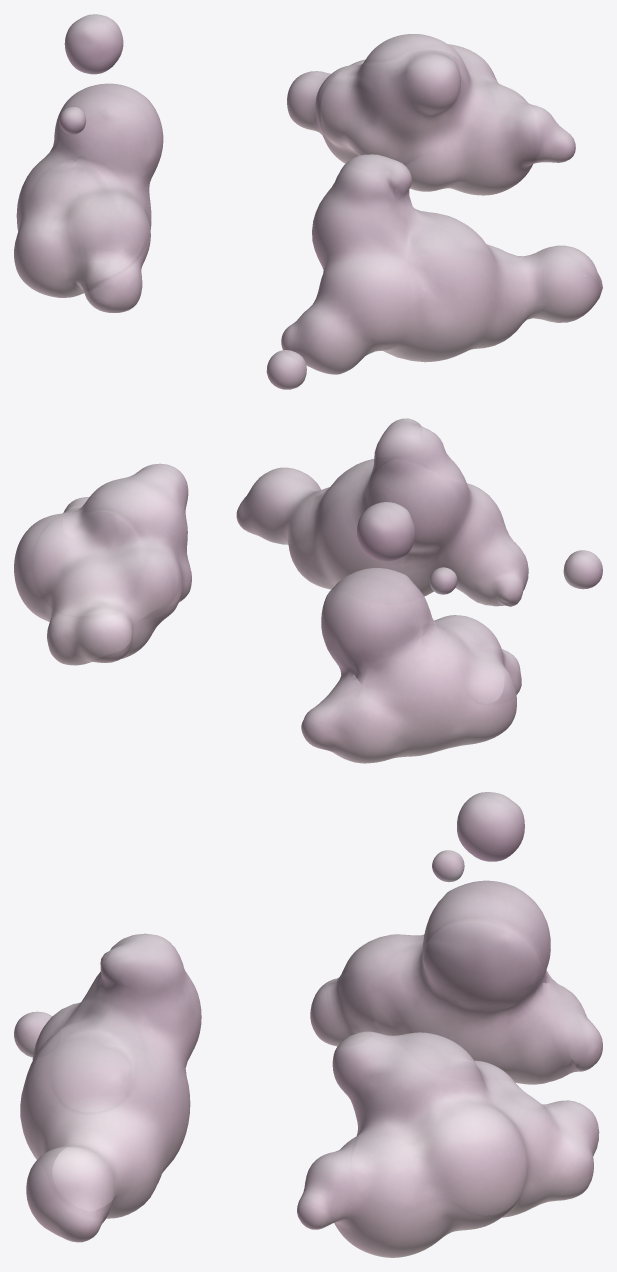
3 views of the same model, one above another, from view 1: azimuth 30°, elevation 25°; view 2: azimuth 150°, elevation 25°; view 3: azimuth 270°, elevation 25° (orthographic). The views are drawn at different scales.
Parts seen in each view (by area): view 1: nube1_0, nube3_2, nube2_1; view 2: nube2_1, nube1_0, nube3_2; view 3: nube3_2, nube1_0, nube2_1.
Part boxes in pixels (bbox=[...]): nube1_0: bbox=[266, 154, 602, 389]; nube3_2: bbox=[287, 34, 575, 195]; nube2_1: bbox=[14, 14, 163, 312]; nube2_1: bbox=[301, 502, 521, 763]; nube1_0: bbox=[236, 418, 602, 606]; nube3_2: bbox=[14, 463, 191, 665]; nube3_2: bbox=[297, 1031, 599, 1257]; nube1_0: bbox=[14, 933, 201, 1242]; nube2_1: bbox=[310, 792, 602, 1084].
Size of the model in its own units: 4.37 by 2.1 by 3.82.
Materials: 3 (3 with a texture image).
